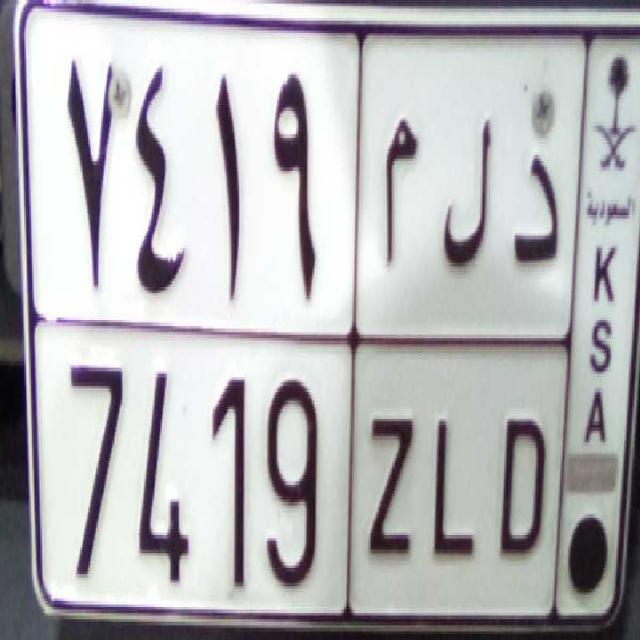license_plate: (48, 311, 555, 629)
